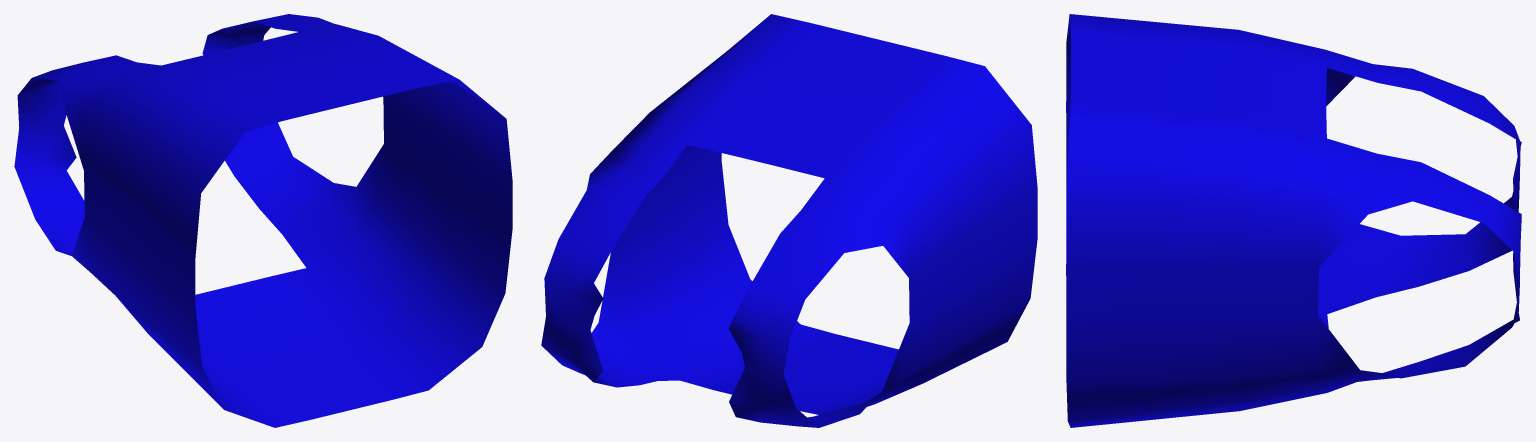
Rendered from Team_Shirt_UV_Version_FBX.fbx.
3 views of the same model, side by side, from view 1: azimuth 30°, elevation 25°; view 2: azimuth 150°, elevation 25°; view 3: azimuth 270°, elevation 25° (orthographic). The views are drawn at different scales.
Parts seen in each view (by area): view 1: team shirt; view 2: team shirt; view 3: team shirt.
Part boxes in pixels (x1,y1,x2,y2): team shirt: (14, 14, 512, 427); team shirt: (541, 14, 1037, 427); team shirt: (1066, 14, 1521, 427).
Bounding box in the file's own units: 2779 × 2561 × 3288.
